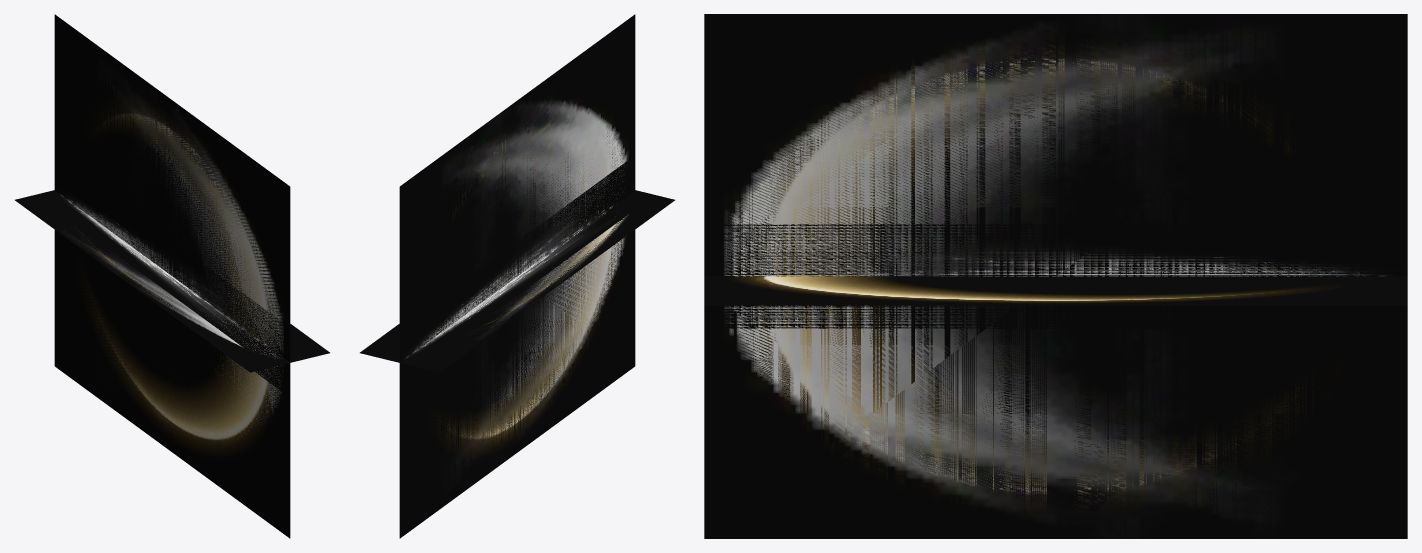
File: Effect_1101_10skill_S.fbx
The picture shows the model from 3 angles, left to right: view 1: azimuth 30°, elevation 25°; view 2: azimuth 150°, elevation 25°; view 3: azimuth 270°, elevation 25°; orthographic projection. The views are drawn at different scales.
Visible parts, largest first — view 1: Effect_1101skill001 (1) (×3), Effect_1101skill001; view 2: Effect_1101skill001, Effect_1101skill001 (1) (×3); view 3: Effect_1101skill001, Effect_1101skill001 (1) (×3).
Part boxes in pixels (bbox=[...]): Effect_1101skill001 (1) (×3): bbox=[15, 15, 309, 538]; Effect_1101skill001: bbox=[15, 14, 329, 494]; Effect_1101skill001: bbox=[360, 14, 674, 538]; Effect_1101skill001 (1) (×3): bbox=[380, 98, 674, 537]; Effect_1101skill001: bbox=[704, 14, 1407, 538]; Effect_1101skill001 (1) (×3): bbox=[704, 14, 1407, 538].
Bounding box in the file's own units: 1.67 × 7 × 8.5.
Materials: 3 (3 with a texture image).
